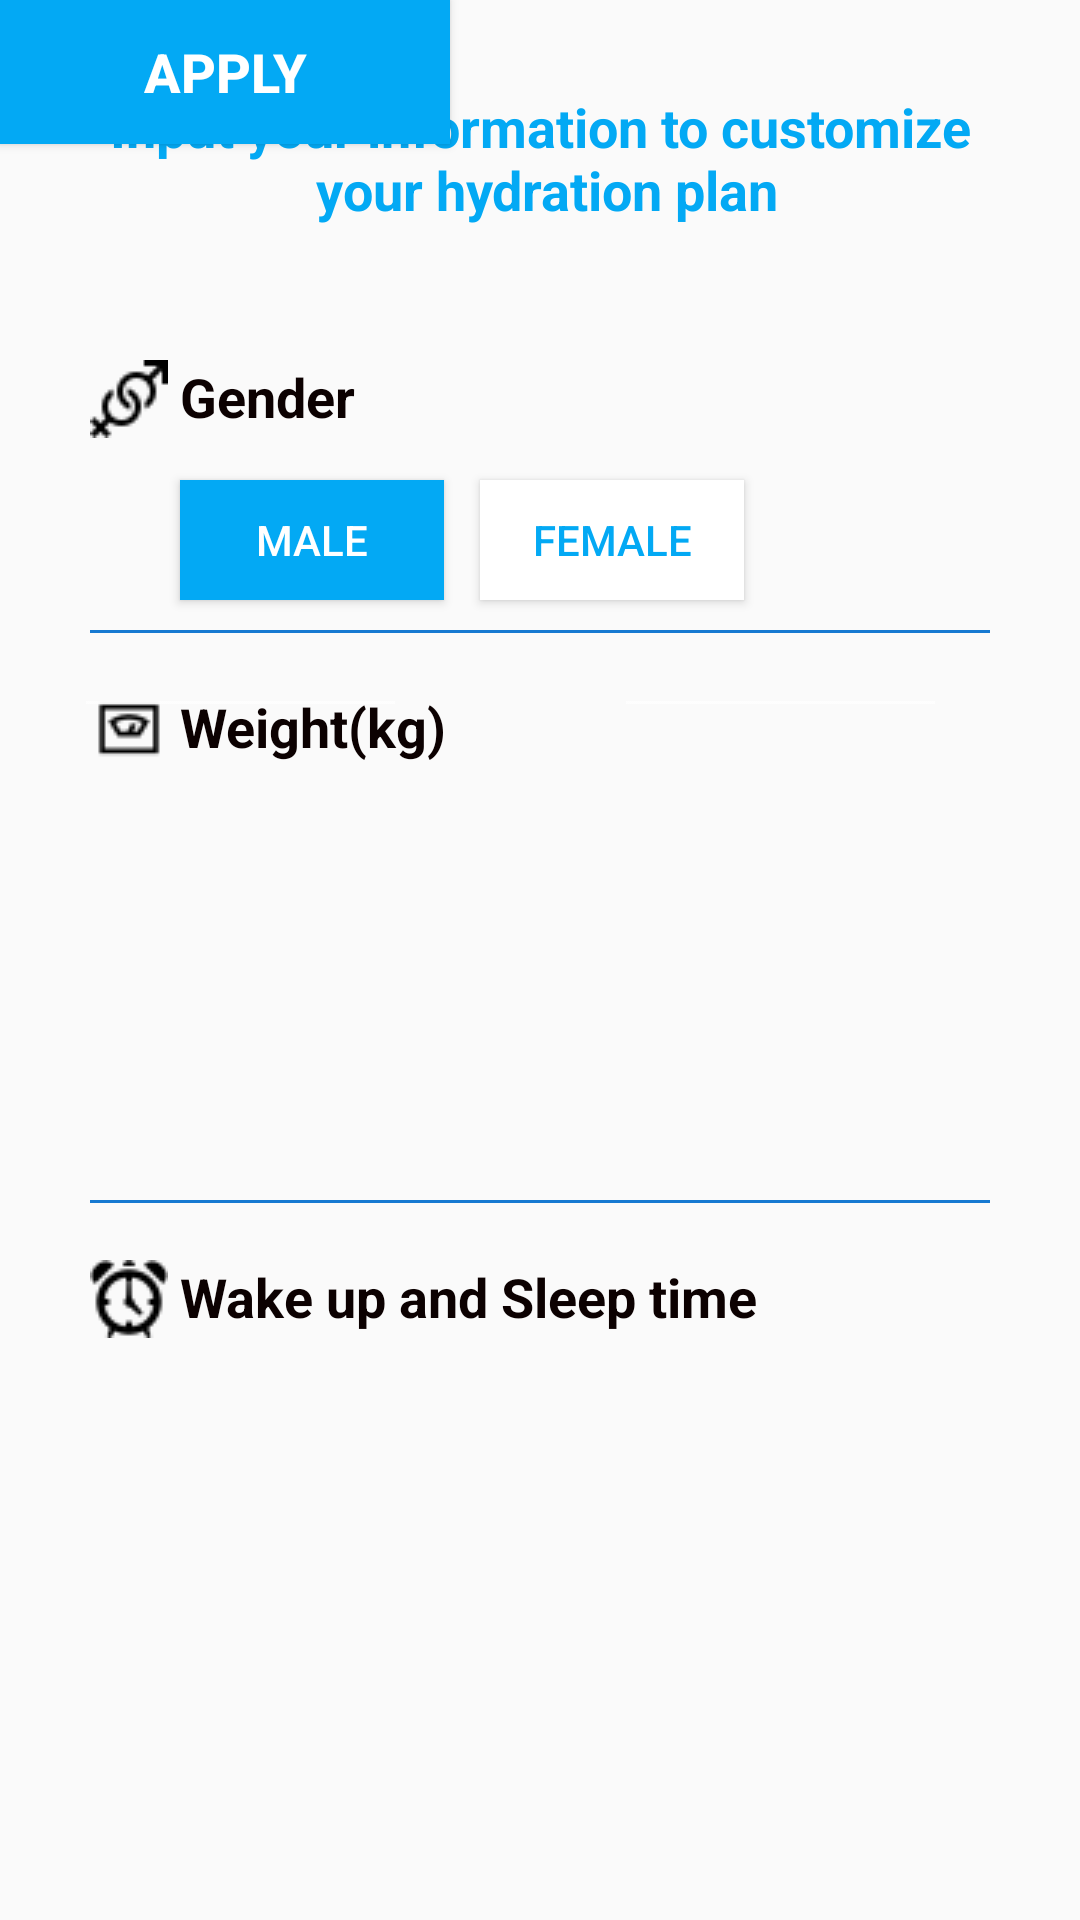

Screen size 1080px x 1920px. Icon name, then its center in pixels as (x=x, y=y):
alarm: (x=129, y=1299)
